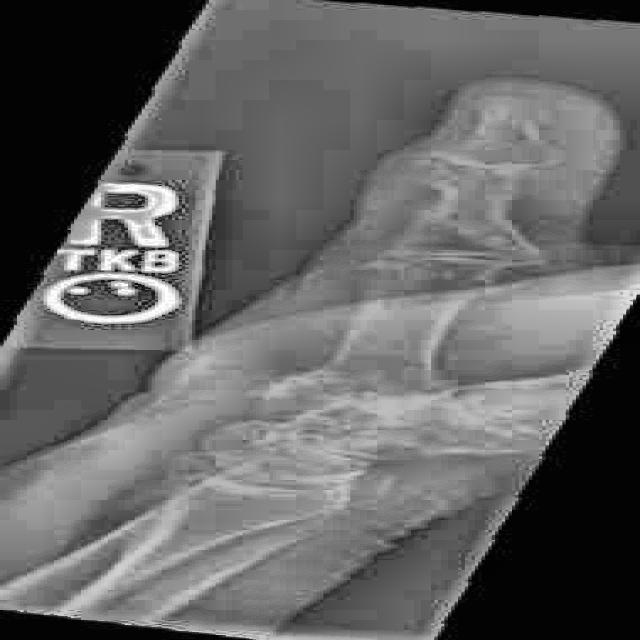fingers positive: (394, 190, 584, 274), (449, 91, 590, 137)
